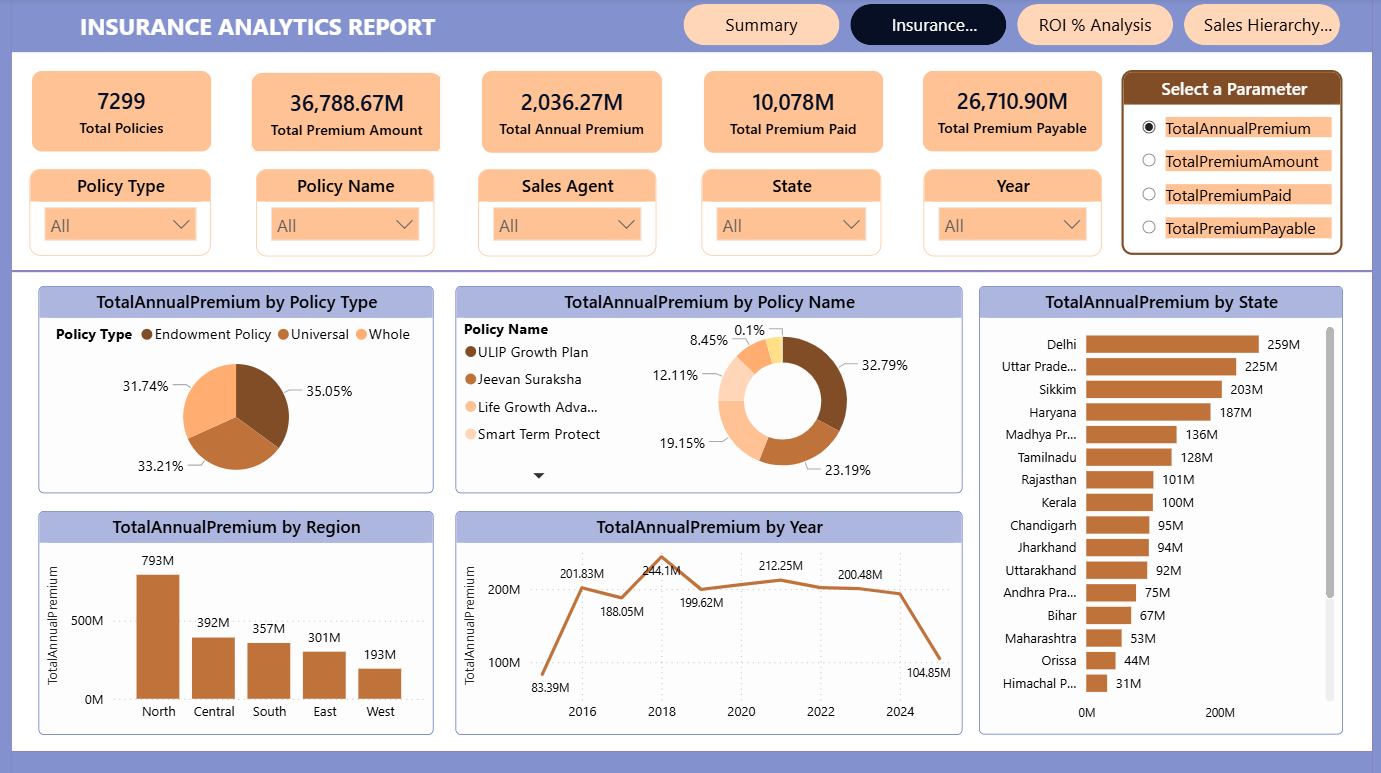

The dashboard page shown, as its layout file describes it:
{"tool":"powerbi","page":{"name":"Insurance Overview","canvas":[1280,720],"ordinal":1},"visuals":[{"type":"slicer","title":"Policy Type","fields":{"Values":["DM Policy_Type.Policy Type"]},"box":[29.6,158.3,167.5,79.7],"z":0},{"type":"slicer","title":"Policy Name","fields":{"Values":["DM Policy_Protection_Plan.Policy Name"]},"box":[237.8,157.8,164.5,80.7],"z":1000},{"type":"slicer","title":"Sales Agent","fields":{"Values":["DM Insurance_Agent_Table.Sales Agent"]},"box":[442.8,157.8,164.5,80.7],"z":2000},{"type":"slicer","title":"State","fields":{"Values":["DM Customer_Detail_Table.State"]},"box":[649.6,158.1,165.9,79.8],"z":3000},{"type":"slicer","title":"Year","fields":{"Values":["FCT Insurance_Policy_Table.Date of Purchase.Variation.Date Hierarchy.Year"]},"box":[854,157.8,164.5,80.7],"z":4000},{"type":"shape","box":[0,0,1279.8,50],"z":5000},{"type":"shape","box":[0,694.4,1279.5,25.7],"z":6000},{"type":"shape","box":[0,0,12.9,720.1],"z":7000},{"type":"shape","box":[1268.7,0,11.3,720],"z":8000},{"type":"shape","box":[12.5,238.5,1255.8,27.9],"z":9000},{"type":"cardVisual","title":"No. of Policies","fields":{"Data":["CountNonNull(DM Customer_Detail_Table.Customer ID)"]},"box":[13.3,50.4,200.2,109.3],"z":10000},{"type":"cardVisual","title":"Total Annual Premium","fields":{"Data":["Sum(FCT Insurance_Policy_Table.Total Annual Premium)"]},"box":[429.6,49.9,201.2,110.3],"z":11000},{"type":"cardVisual","title":"Total Premium Amount","fields":{"Data":["Sum(FCT Insurance_Policy_Table.Total Premium Amount)"]},"box":[216.3,50.9,210.4,108.3],"z":12000},{"type":"cardVisual","title":"Total Premium Paid","fields":{"Data":["Sum(FCT Insurance_Policy_Table.Total Premium Paid)"]},"box":[633.6,49.9,200.2,110.3],"z":13000},{"type":"cardVisual","title":"Total Premium Payable","fields":{"Data":["Sum(FCT Insurance_Policy_Table.Total Premium payable)"]},"box":[836.6,50.4,200.2,109.3],"z":14000},{"type":"slicer","title":"Select a Parameter","fields":{"Values":["Visual - Parameter.Visual - Parameter"]},"box":[1036.9,66.4,204.3,170.6],"z":15000},{"type":"pieChart","fields":{"Y":["FCT Insurance_Policy_Table.TotalAnnualPremium"],"Category":["DM Policy_Type.Policy Type"]},"box":[37.8,265.6,364.7,191],"z":16000},{"type":"columnChart","fields":{"Y":["FCT Insurance_Policy_Table.TotalAnnualPremium"],"Category":["DM Regional_Manager.Region"]},"box":[37.8,473,364.7,206.4],"z":17000},{"type":"donutChart","fields":{"Y":["FCT Insurance_Policy_Table.TotalAnnualPremium"],"Category":["DM Policy_Protection_Plan.Policy Name"]},"box":[421.9,265.6,467.9,191],"z":18000},{"type":"lineChart","fields":{"Y":["FCT Insurance_Policy_Table.TotalAnnualPremium"],"Category":["FCT Insurance_Policy_Table.Date of Purchase.Variation.Date Hierarchy.Year"]},"box":[421.9,473,467.9,206.4],"z":19000},{"type":"barChart","fields":{"Y":["FCT Insurance_Policy_Table.TotalAnnualPremium"],"Category":["DM Insurance_Agent_Table.State"]},"box":[905.1,265.6,336.1,413.7],"z":20000},{"type":"textbox","box":[28.8,5.8,421.2,38.5],"z":21000},{"type":"pageNavigator","box":[632.7,5.8,609.6,38.5],"z":22000}]}

Visuals, with their boxes in screenshot pixels (x1, y1, x2, y2), scaled from the page's 1280x720 canvas onto the 1381x773 screenshot:
"Policy Type" slicer: box(32, 170, 213, 256)
"Policy Name" slicer: box(257, 169, 434, 256)
"Sales Agent" slicer: box(478, 169, 655, 256)
"State" slicer: box(701, 170, 880, 255)
"Year" slicer: box(921, 169, 1099, 256)
shape: box(0, 0, 1380, 54)
shape: box(0, 746, 1380, 772)
shape: box(0, 0, 14, 772)
shape: box(1369, 0, 1380, 772)
shape: box(13, 256, 1368, 286)
"No. of Policies" cardVisual: box(14, 54, 230, 171)
"Total Annual Premium" cardVisual: box(463, 54, 681, 172)
"Total Premium Amount" cardVisual: box(233, 55, 460, 171)
"Total Premium Paid" cardVisual: box(684, 54, 900, 172)
"Total Premium Payable" cardVisual: box(903, 54, 1119, 171)
"Select a Parameter" slicer: box(1119, 71, 1339, 254)
pieChart - FCT Insurance_Policy_Table.TotalAnnualPremium x DM Policy_Type.Policy Type: box(41, 285, 434, 490)
columnChart - FCT Insurance_Policy_Table.TotalAnnualPremium x DM Regional_Manager.Region: box(41, 508, 434, 729)
donutChart - FCT Insurance_Policy_Table.TotalAnnualPremium x DM Policy_Protection_Plan.Policy Name: box(455, 285, 960, 490)
lineChart - FCT Insurance_Policy_Table.TotalAnnualPremium x FCT Insurance_Policy_Table.Date of Purchase.Variation.Date Hierarchy.Year: box(455, 508, 960, 729)
barChart - FCT Insurance_Policy_Table.TotalAnnualPremium x DM Insurance_Agent_Table.State: box(977, 285, 1339, 729)
textbox: box(31, 6, 486, 48)
pageNavigator: box(683, 6, 1340, 48)
